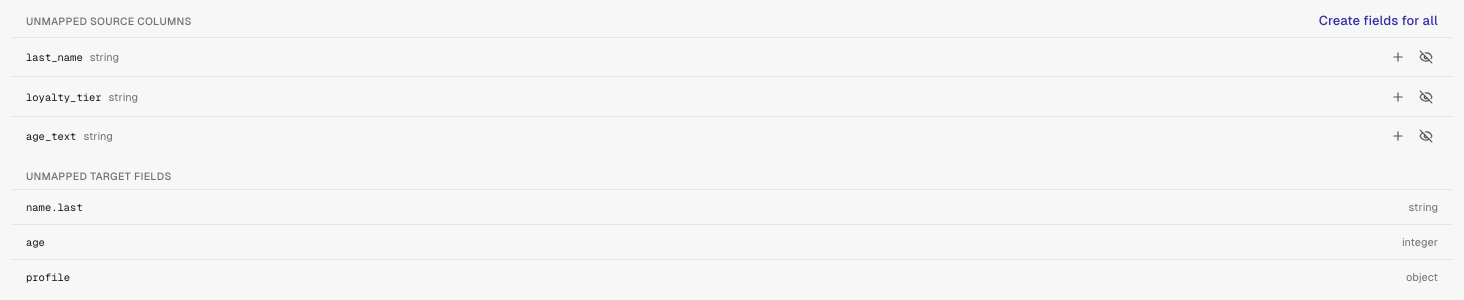
Test: UnmappedPanel › AC6: create field and map
What coordinates should you click on to do the following:
click the button named "Create a field for loyalty_tier"
I would click on:
 (1398, 97)
Its box is [1386, 84, 1410, 109].
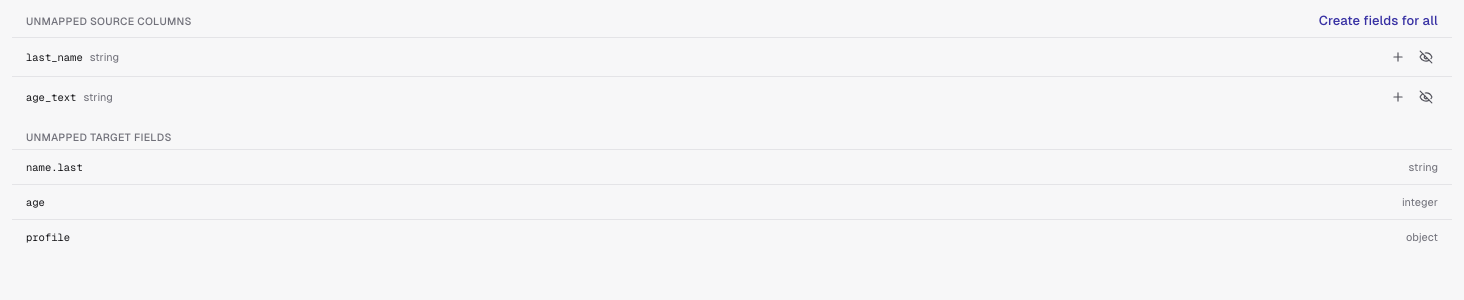
Expected: the text "loyalty_tier" is gone
